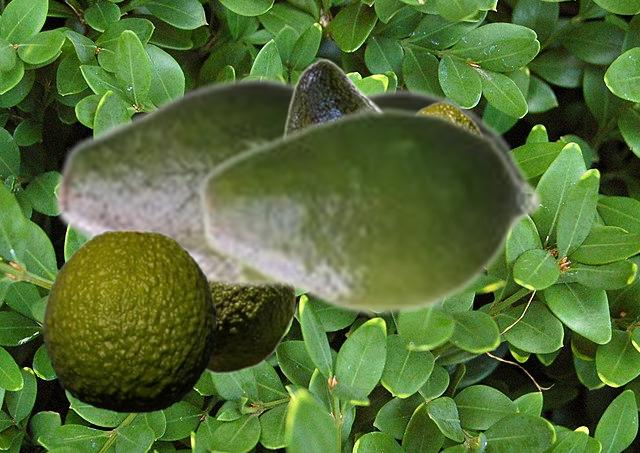avocado: (194, 102, 544, 318), (53, 74, 296, 290), (42, 229, 215, 412), (360, 86, 532, 240), (205, 289, 296, 373), (283, 58, 379, 132)
